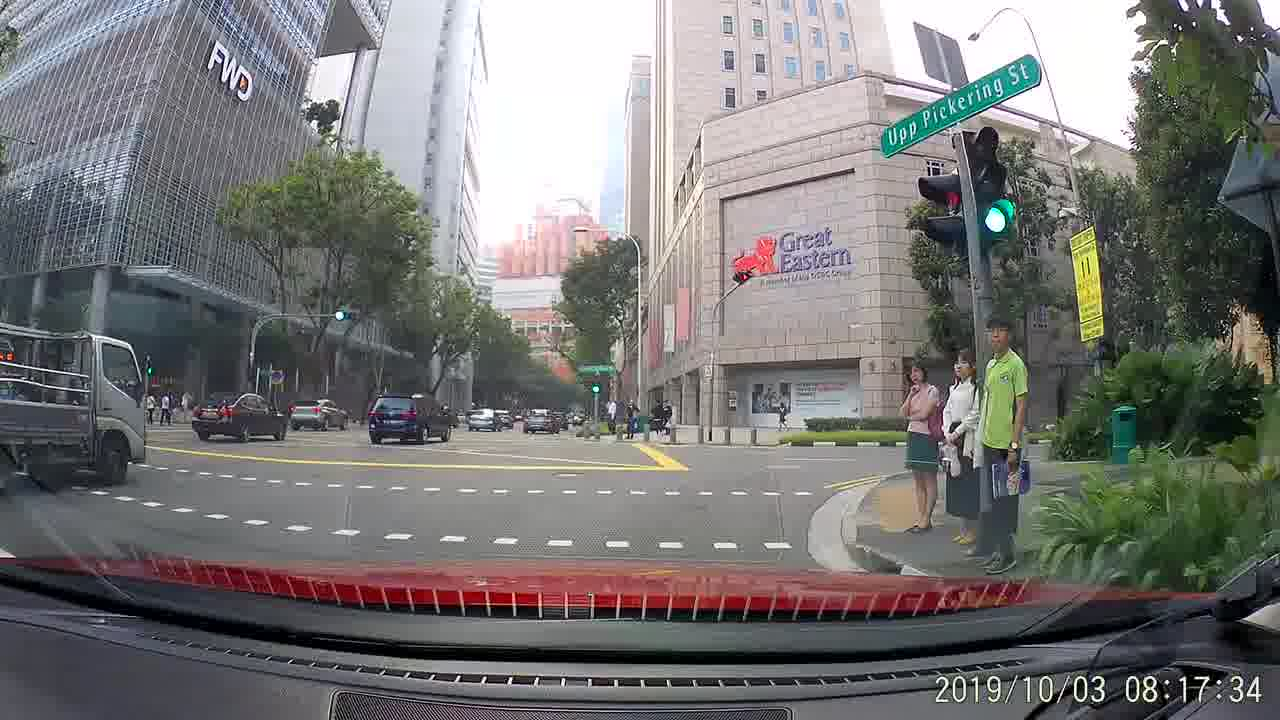car: (192, 392, 288, 444), (367, 390, 451, 448), (285, 398, 350, 432), (518, 405, 558, 434), (468, 406, 502, 429)
